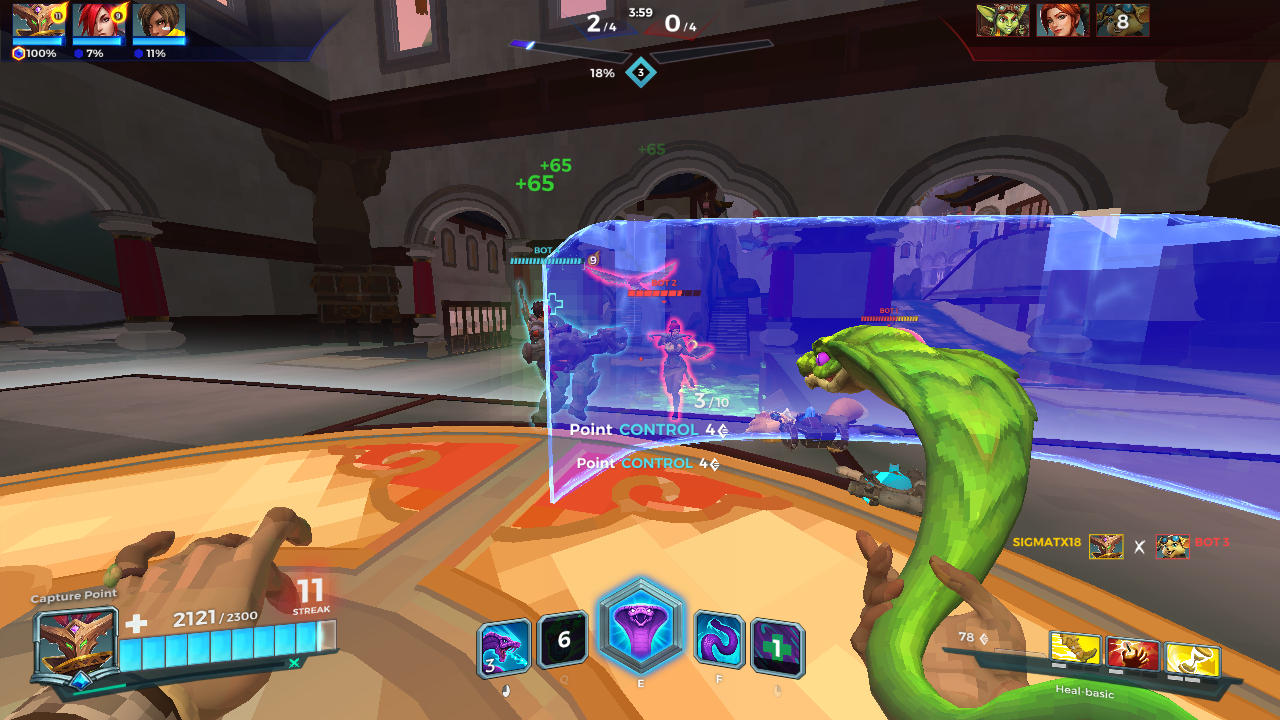model: (646, 311, 697, 424)
